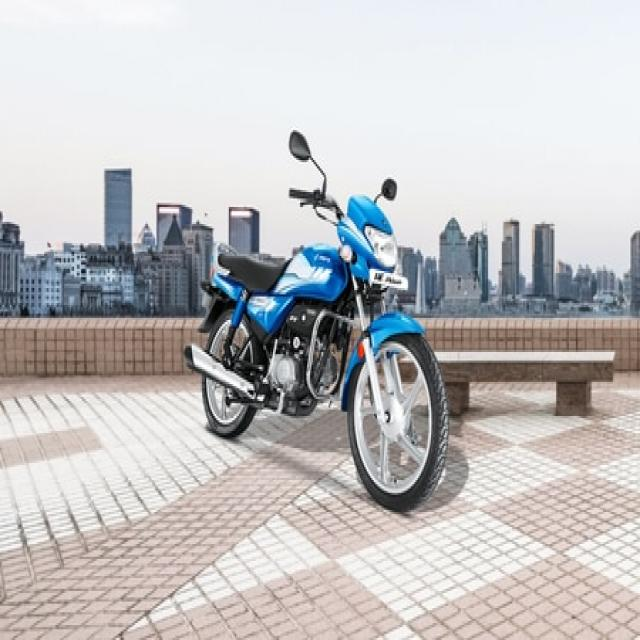Bike: (193, 128, 450, 510)
